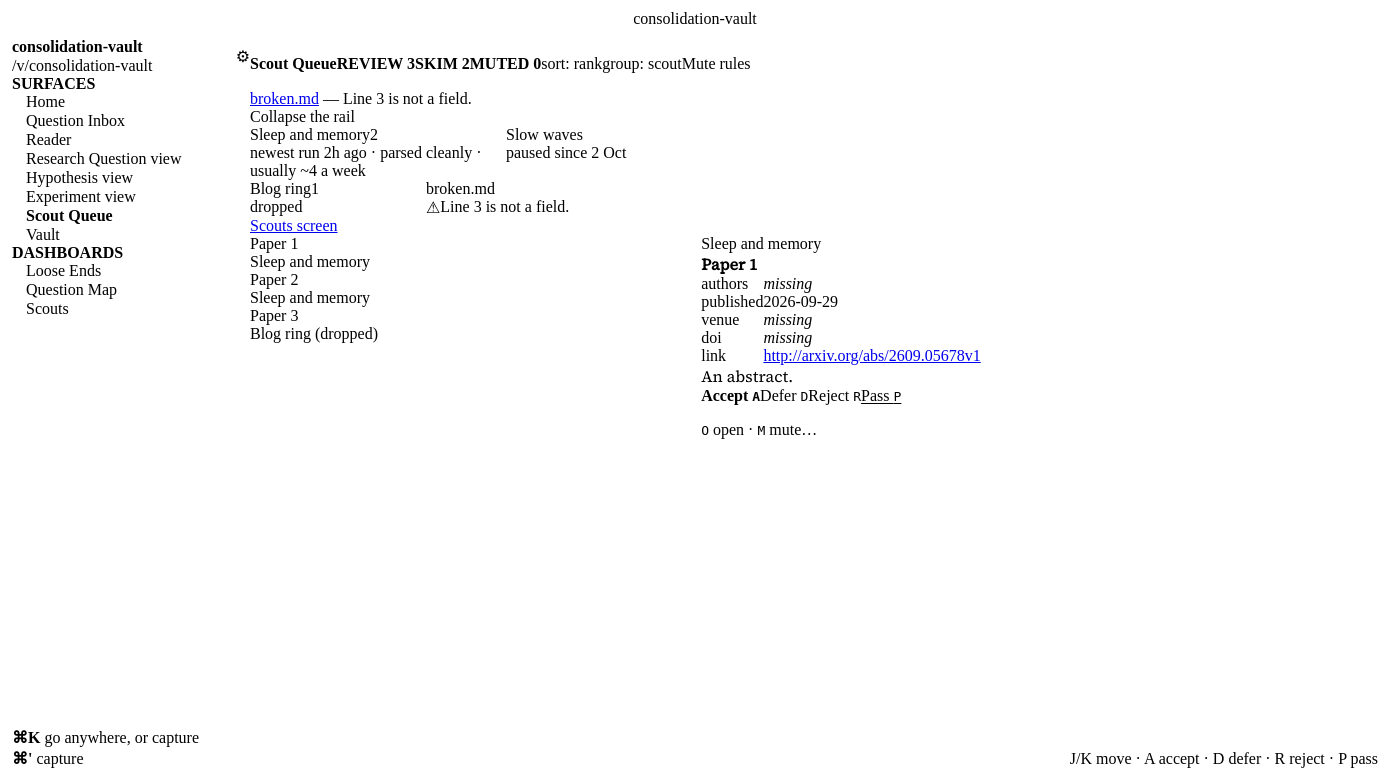
Test: filtering by the rail › narrows both lanes to the Scout, names it, and clears by the entry again or by show all
Step 1. Click the button "Sleep and memory" → [378, 153], box x1=250 y1=126 x2=506 y2=180
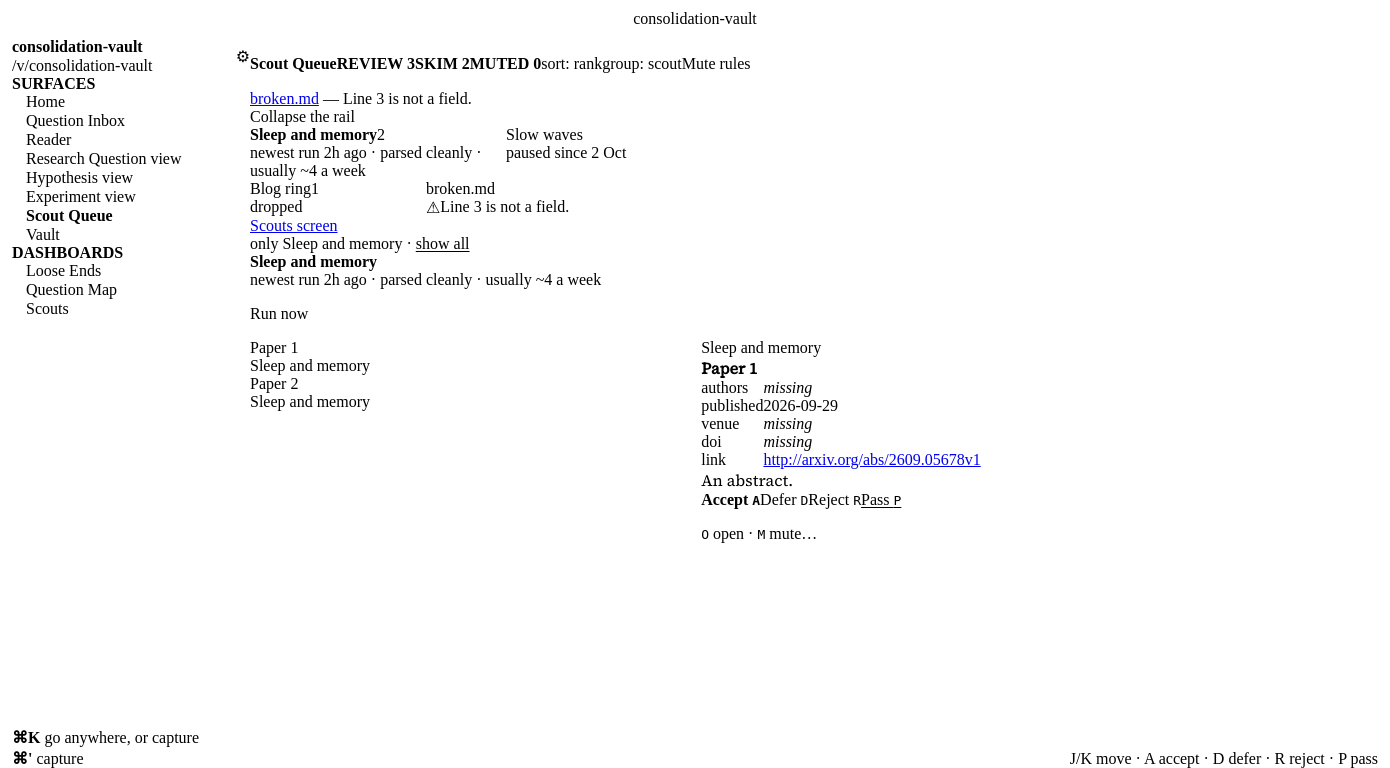
Expected: the text "only Sleep and memory · show all" is shown, x1=250 y1=235 x2=470 y2=253
Step 2. Click the tab "Skim 2" → [442, 64], box x1=415 y1=55 x2=470 y2=73
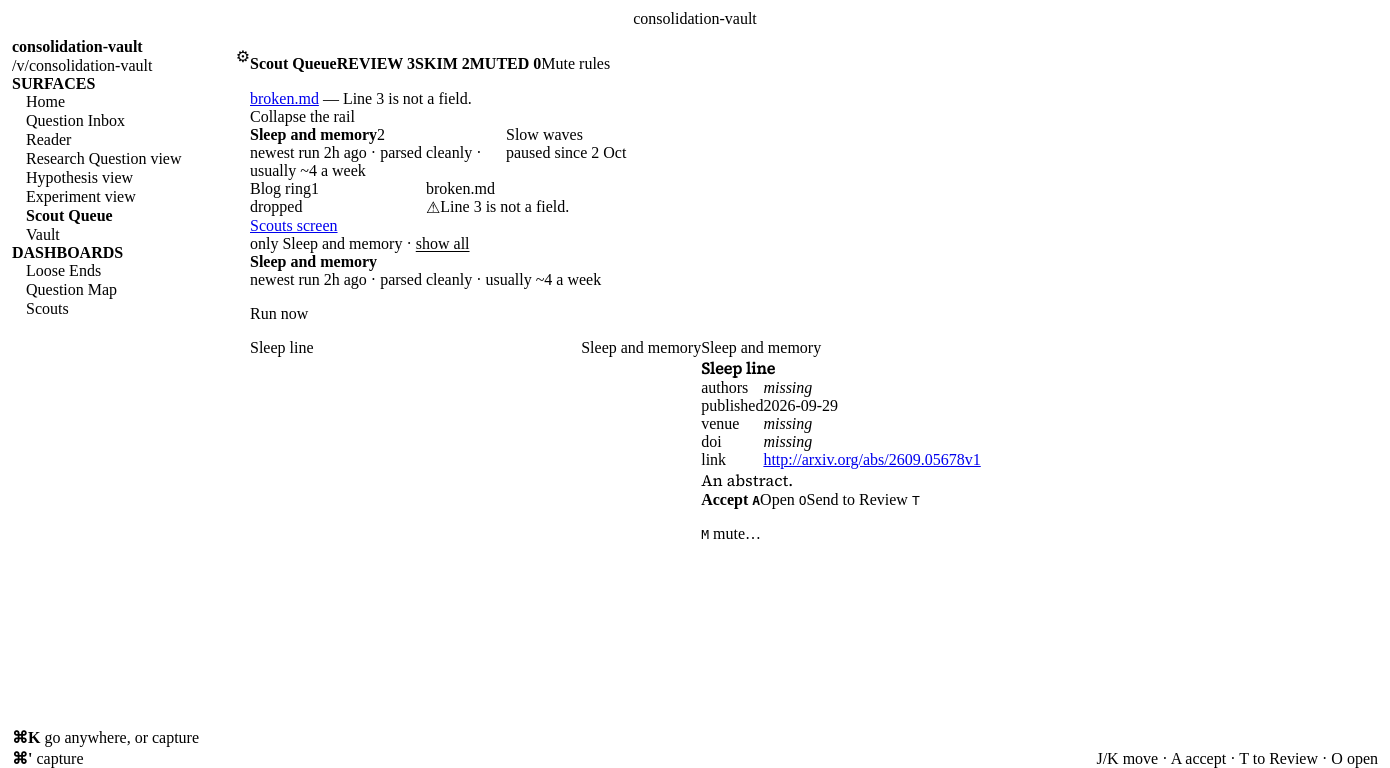
Step 3. Click the tab "Review 3" → [376, 64], box x1=337 y1=55 x2=415 y2=73
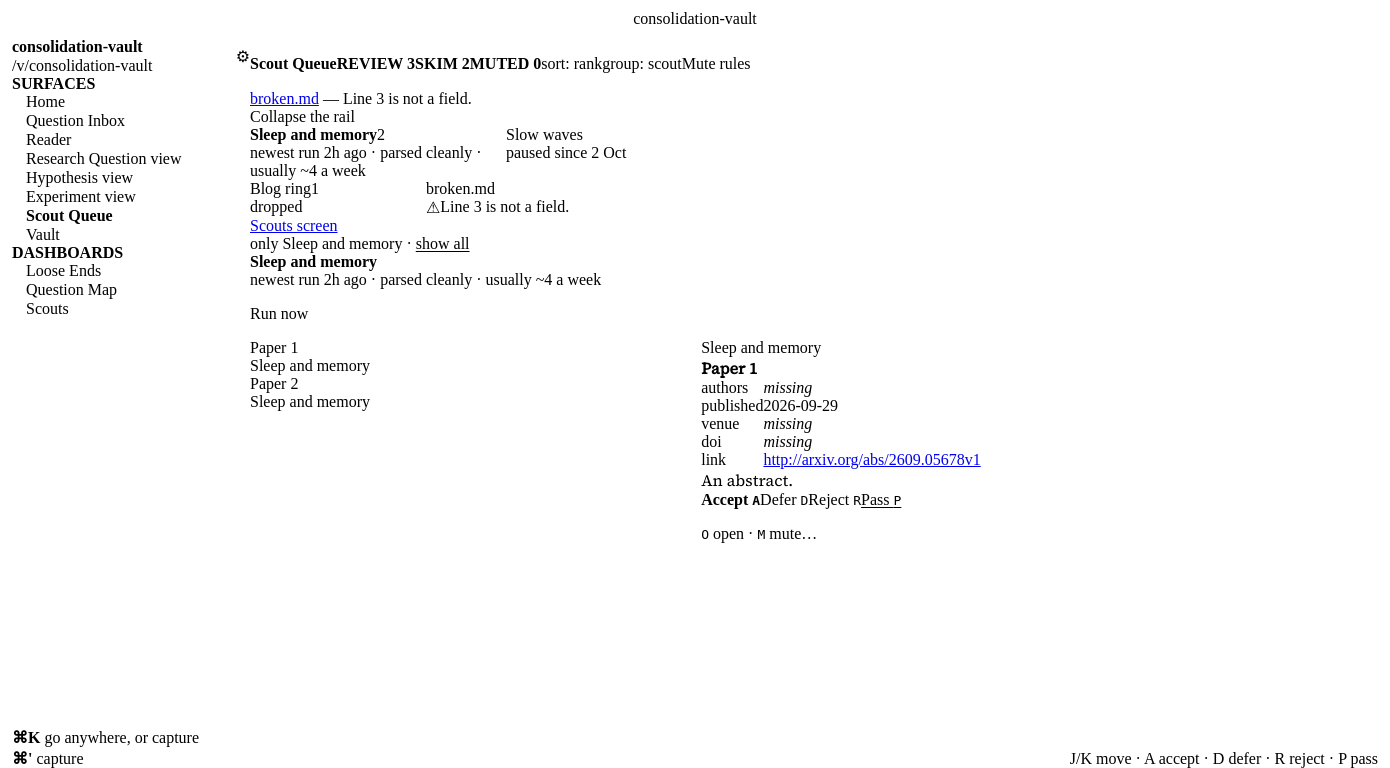
Step 4. Click the button "Sleep and memory" → [378, 153], box x1=250 y1=126 x2=506 y2=180
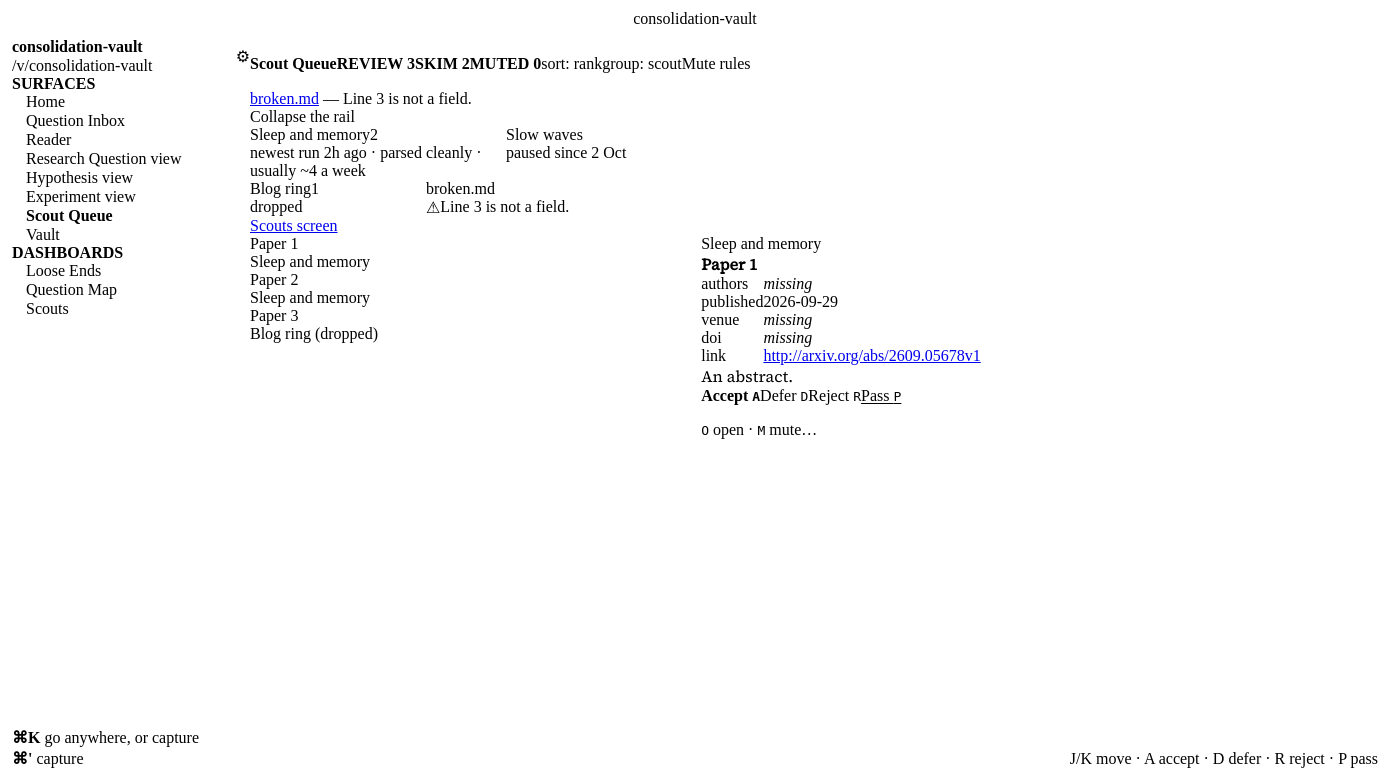
Expected: the text "only Sleep and memory" is gone
Step 5. Click the button "Blog ring 1 dropped" → [338, 198], box x1=250 y1=180 x2=426 y2=216
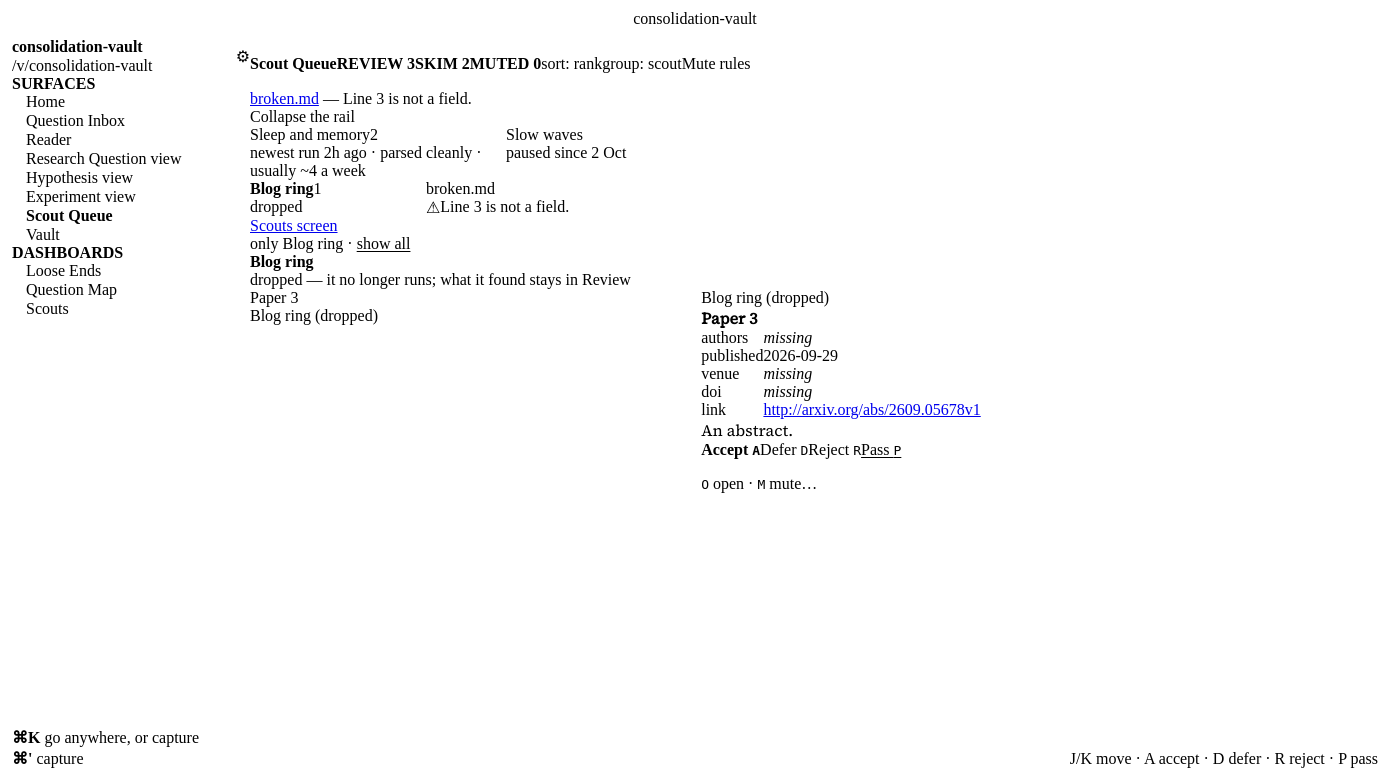
Step 6. Click the button "show all" → [384, 244], box x1=357 y1=235 x2=410 y2=253
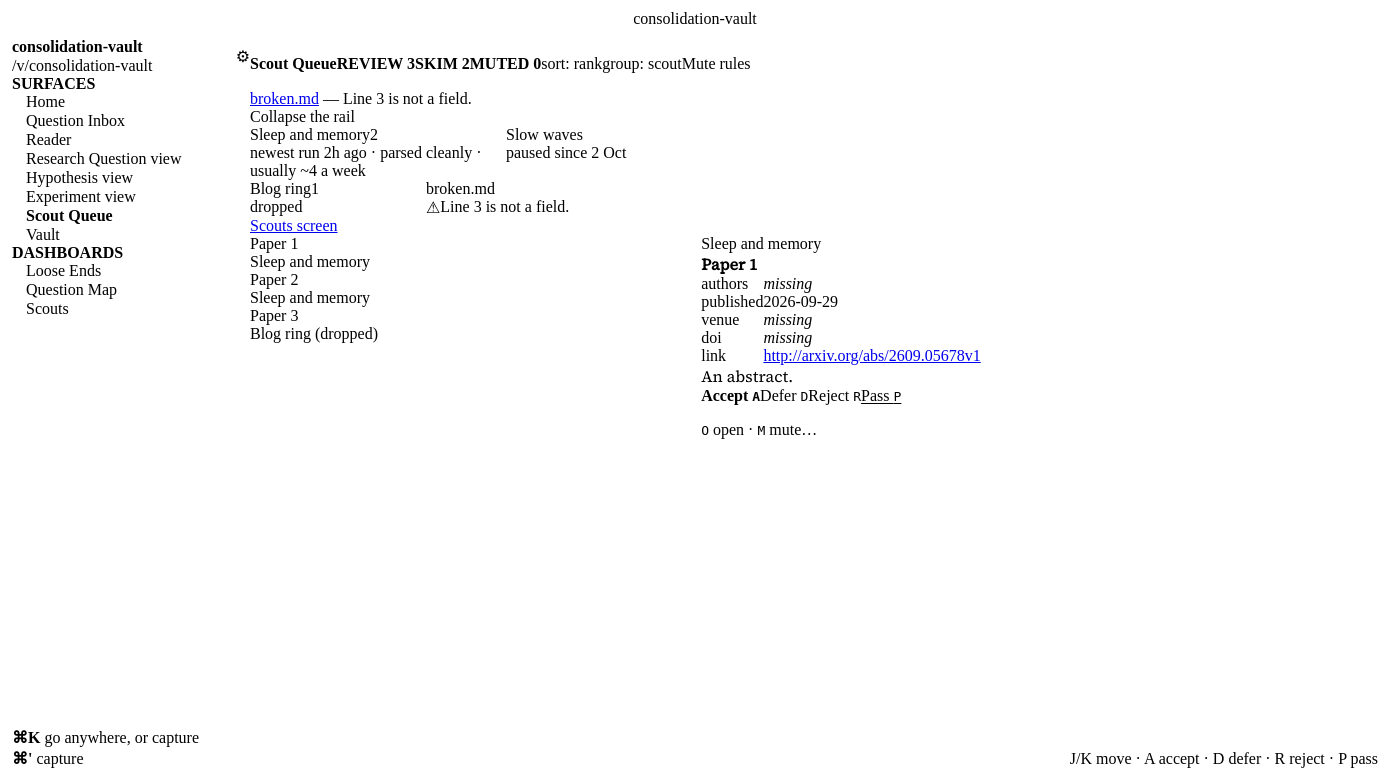
Expected: the text "only Blog ring" is gone
